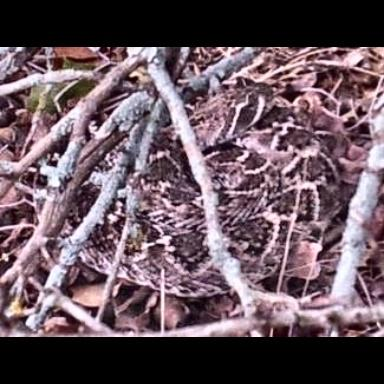snake: (4, 49, 365, 298)
